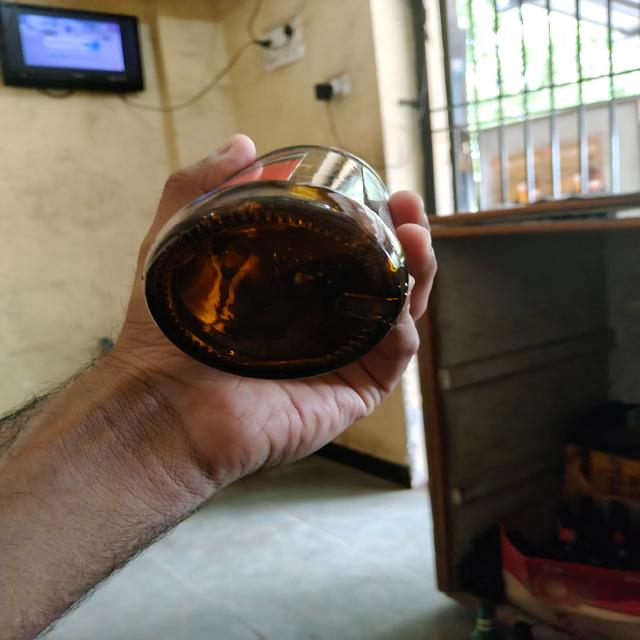Alcohol-Bottle-Detection: (140, 107, 405, 370)
